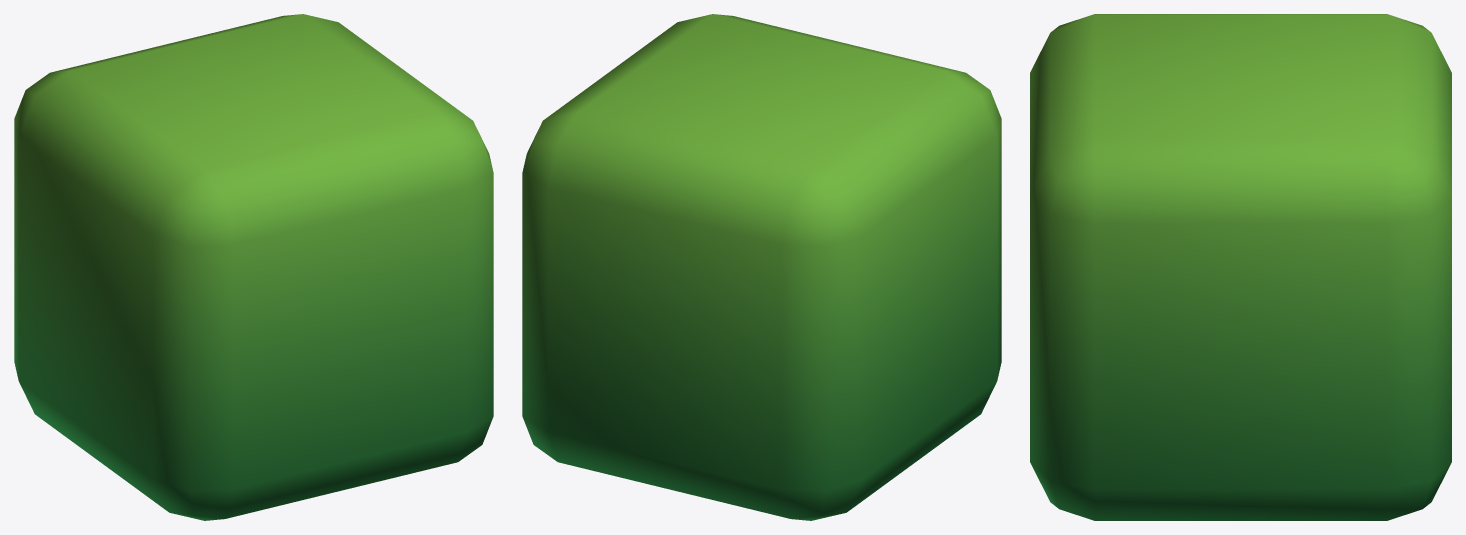
The model's file is Bush_2_C_Color1.glb.
3 views of the same model, side by side, from view 1: azimuth 30°, elevation 25°; view 2: azimuth 150°, elevation 25°; view 3: azimuth 270°, elevation 25° (orthographic). The views are drawn at different scales.
Visible parts, largest first — view 1: Bush_2_C_Color1; view 2: Bush_2_C_Color1; view 3: Bush_2_C_Color1.
Part boxes in pixels (x1,y1,x2,y2): Bush_2_C_Color1: [14, 14, 493, 520]; Bush_2_C_Color1: [522, 14, 1001, 520]; Bush_2_C_Color1: [1030, 14, 1451, 520].
Size of the model in its own units: 1.32 by 1.32 by 1.32.
1 material, 1 textured.
